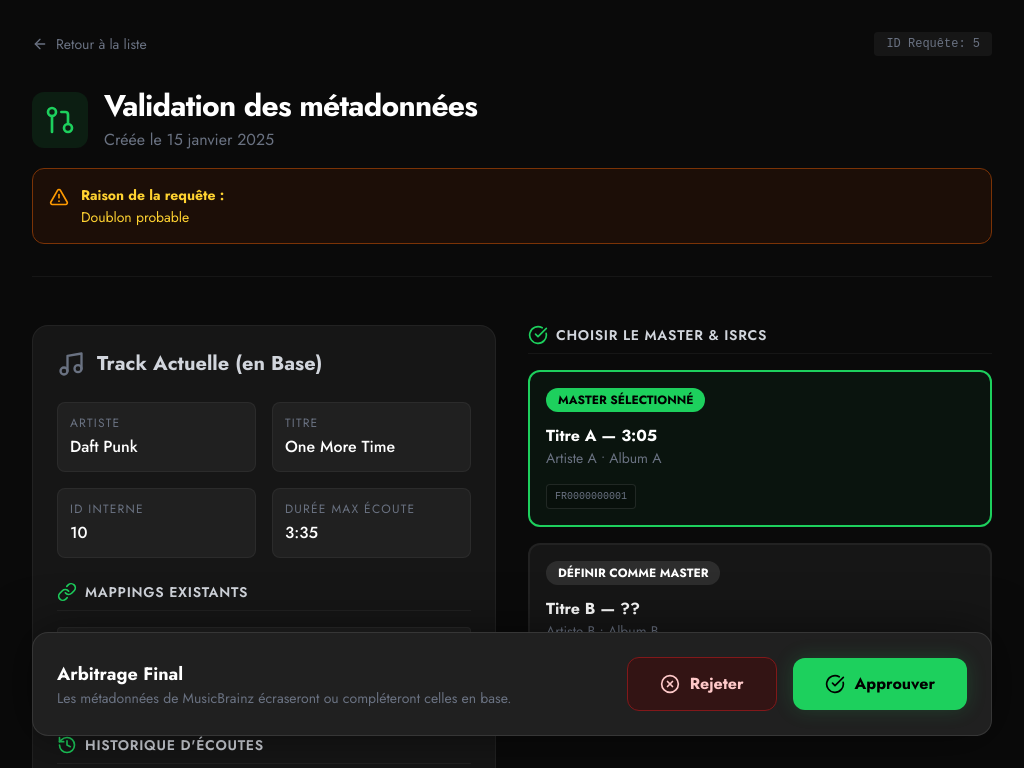
Test case: CreateRequestDetailPage - suggestions › cliquer sur la carte sélectionne aussi le master
The width and height of the screenshot is (1024, 768).
expect the heading "Validation des métadonnées" is shown: met, box left=104, top=88, right=477, bottom=124
What coordinates should you click on to do the following:
click the text "Artiste B • Album B"
I would click on:
 (602, 631)
Its box is left=546, top=621, right=659, bottom=641.
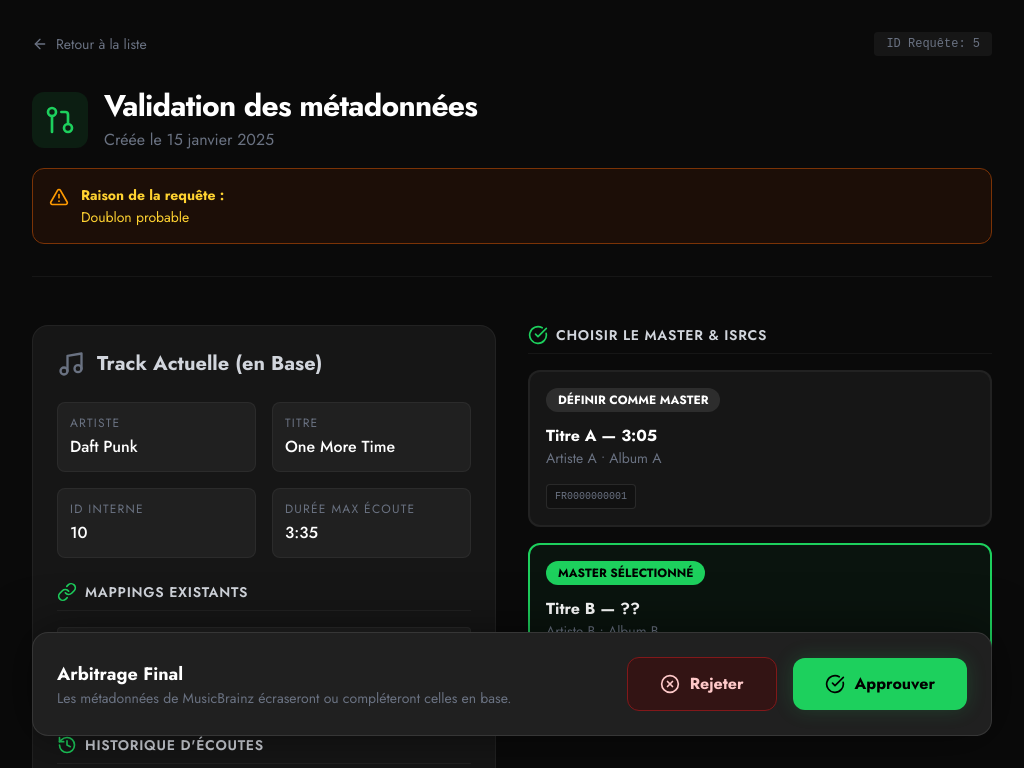
expect the button "MASTER SÉLECTIONNÉ" is shown: met, box left=546, top=561, right=705, bottom=585
